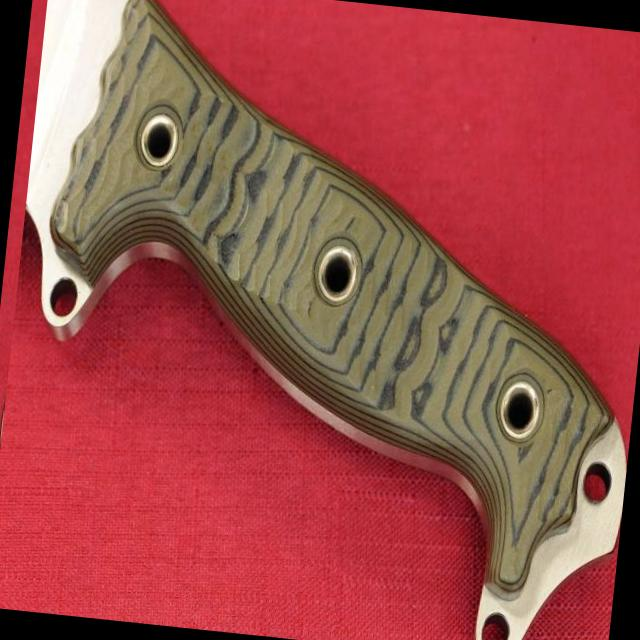Knife: (25, 0, 626, 640)
